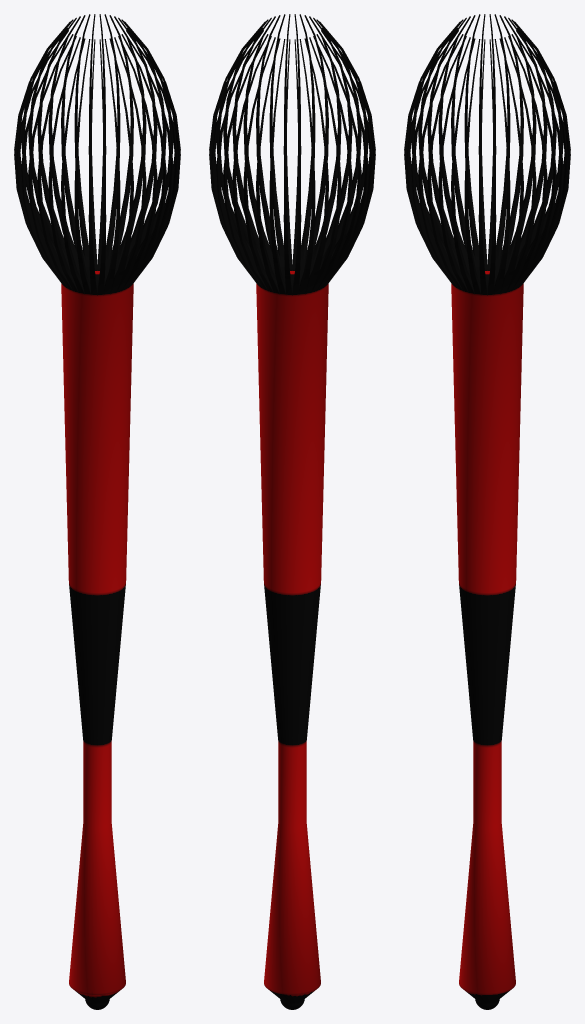
The model's file is Cuesmall.fbx.
The picture shows the model from 3 angles, left to right: view 1: azimuth 30°, elevation 25°; view 2: azimuth 150°, elevation 25°; view 3: azimuth 270°, elevation 25°; orthographic projection.
Visible parts, largest first — view 1: Oil_Tank_1; view 2: Oil_Tank_1; view 3: Oil_Tank_1.
Boxes of the visible parts, x1,y1,x2,y2 form: Oil_Tank_1: (14,14,180,1009); Oil_Tank_1: (209,14,375,1009); Oil_Tank_1: (404,14,570,1009).
Bounding box in the file's own units: 26.54 × 172 × 26.54.
Materials: 1 (1 with a texture image).
